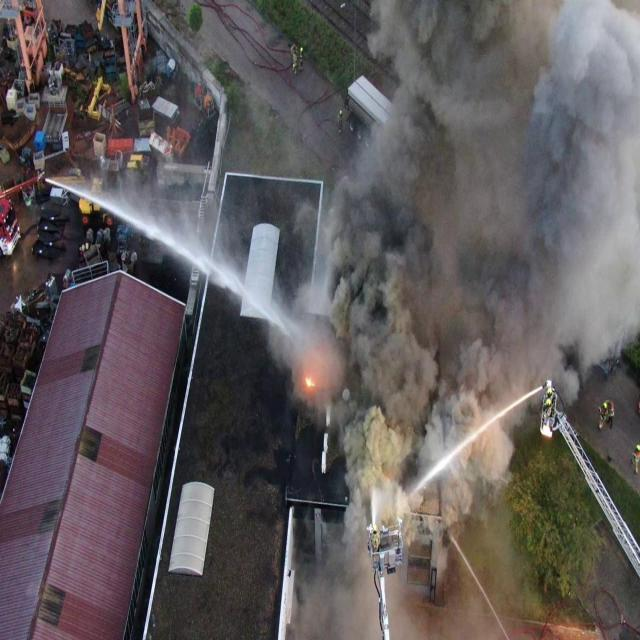Fire: (304, 377, 316, 388)
Smoke: (288, 0, 640, 640)
